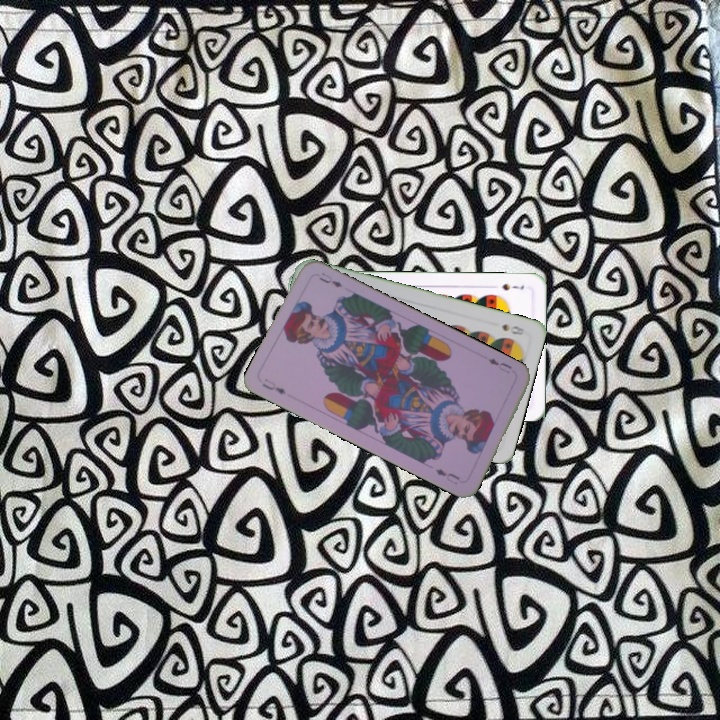EU: (484, 354, 514, 375), (258, 376, 288, 397)
S7: (498, 280, 526, 293)
S8: (498, 320, 527, 338)
